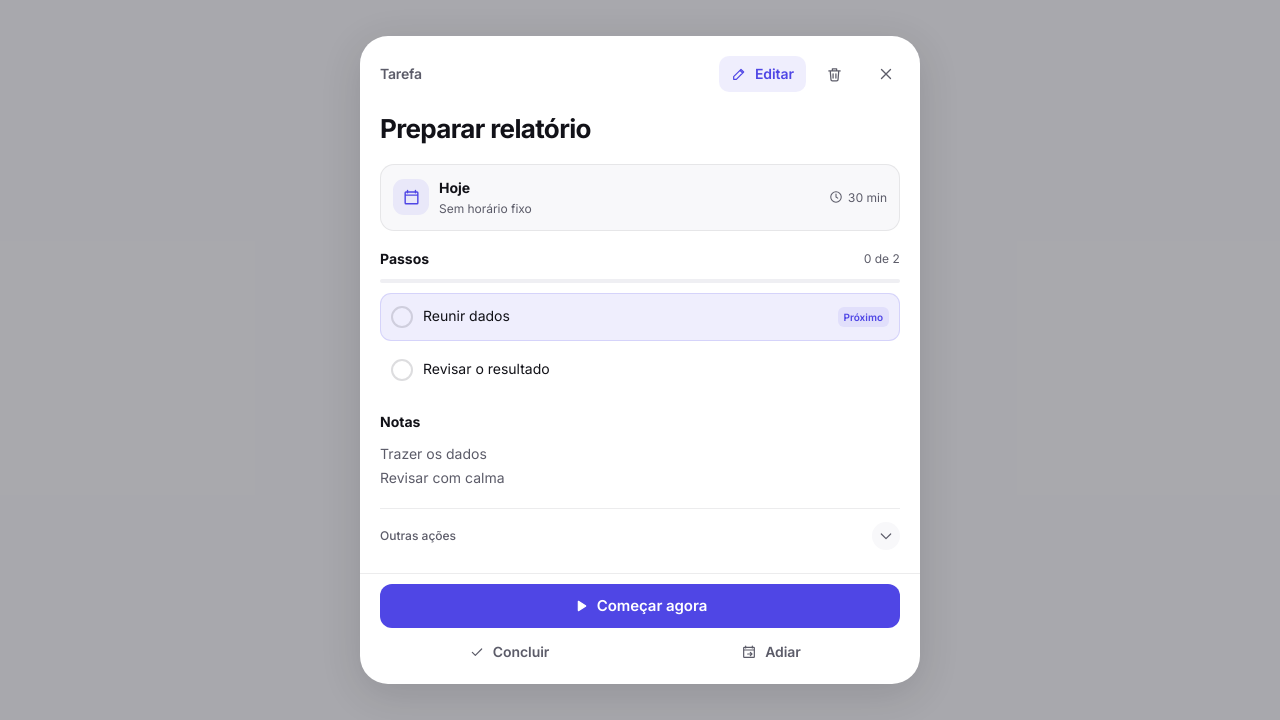
Test: consulta e edição de tarefas › permite marcar o passo pela linha inteira e destaca o próximo pendente
The width and height of the screenshot is (1280, 720).
Click the checkbox with class "next": (466, 315) [380,293,900,341]
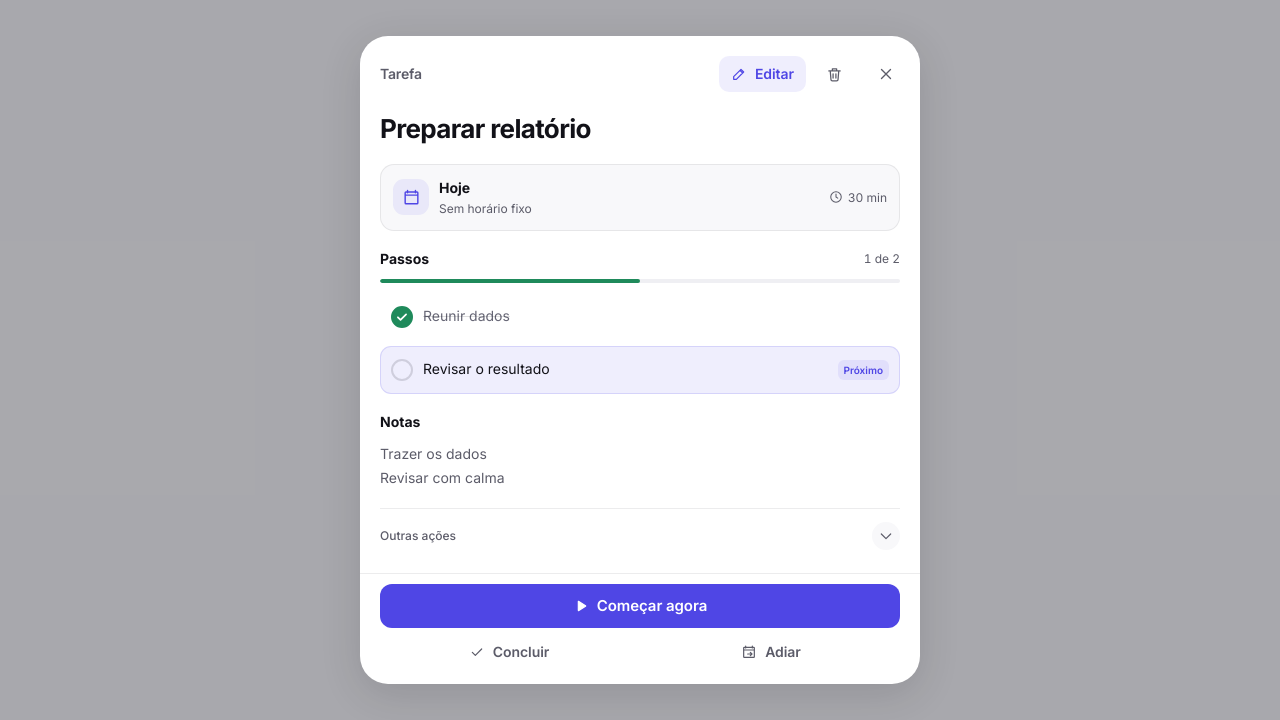
Expected: the progress indicator named "Passos concluídos" has attribute aria-valuenow="50", [380,279,900,283]
